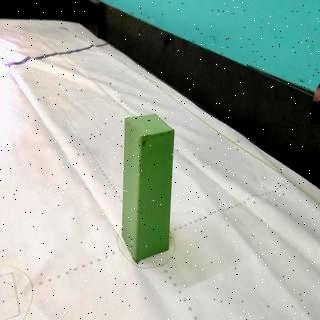greenbox: (122, 112, 176, 266)
